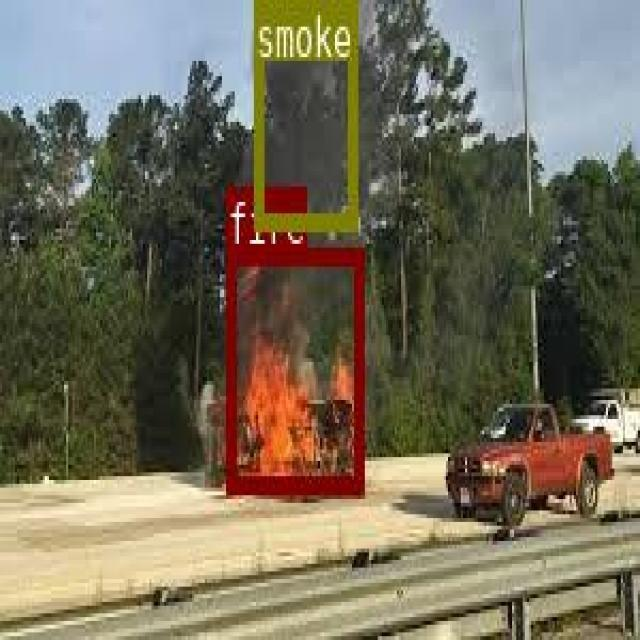fire: (225, 248, 362, 489)
smoke: (252, 0, 354, 225)
